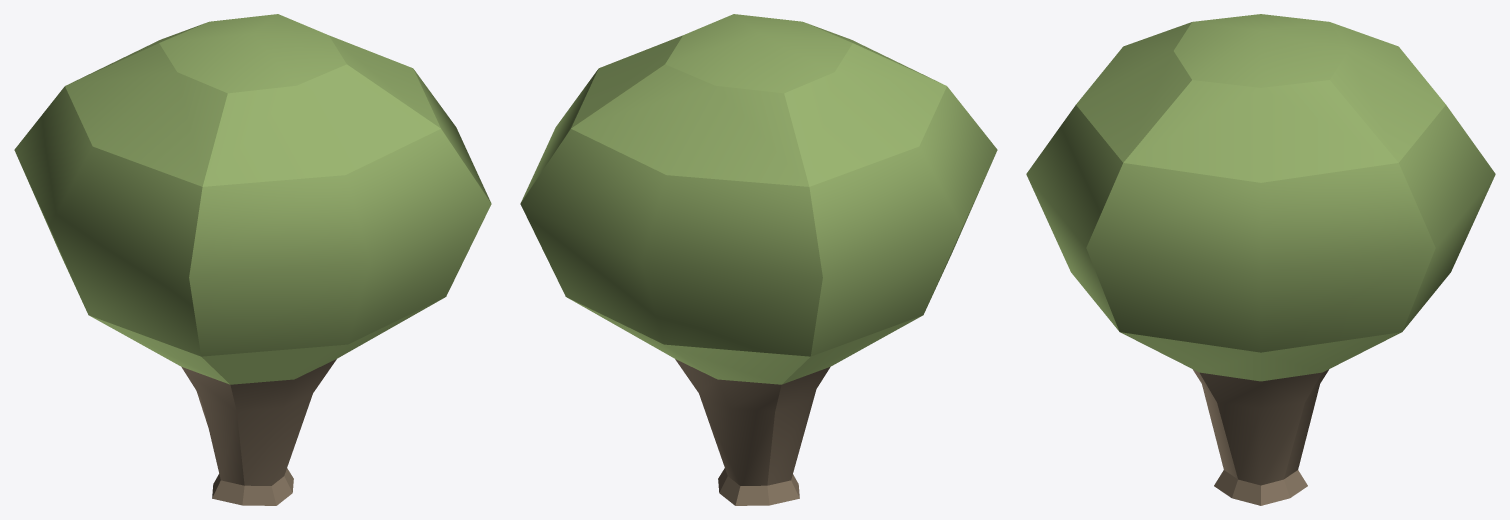
The model's file is arbuste.fbx.
3 renders of one model, left to right at view 1: azimuth 30°, elevation 25°; view 2: azimuth 150°, elevation 25°; view 3: azimuth 270°, elevation 25°, orthographic.
Visible parts, largest first — view 1: arbuste; view 2: arbuste; view 3: arbuste.
Boxes of the visible parts, box(x1,y1,x2,y2) form: arbuste: box(14, 14, 491, 505); arbuste: box(520, 14, 997, 505); arbuste: box(1026, 14, 1495, 505).
Bounding box in the file's own units: 1.04 × 1.11 × 1.04.
